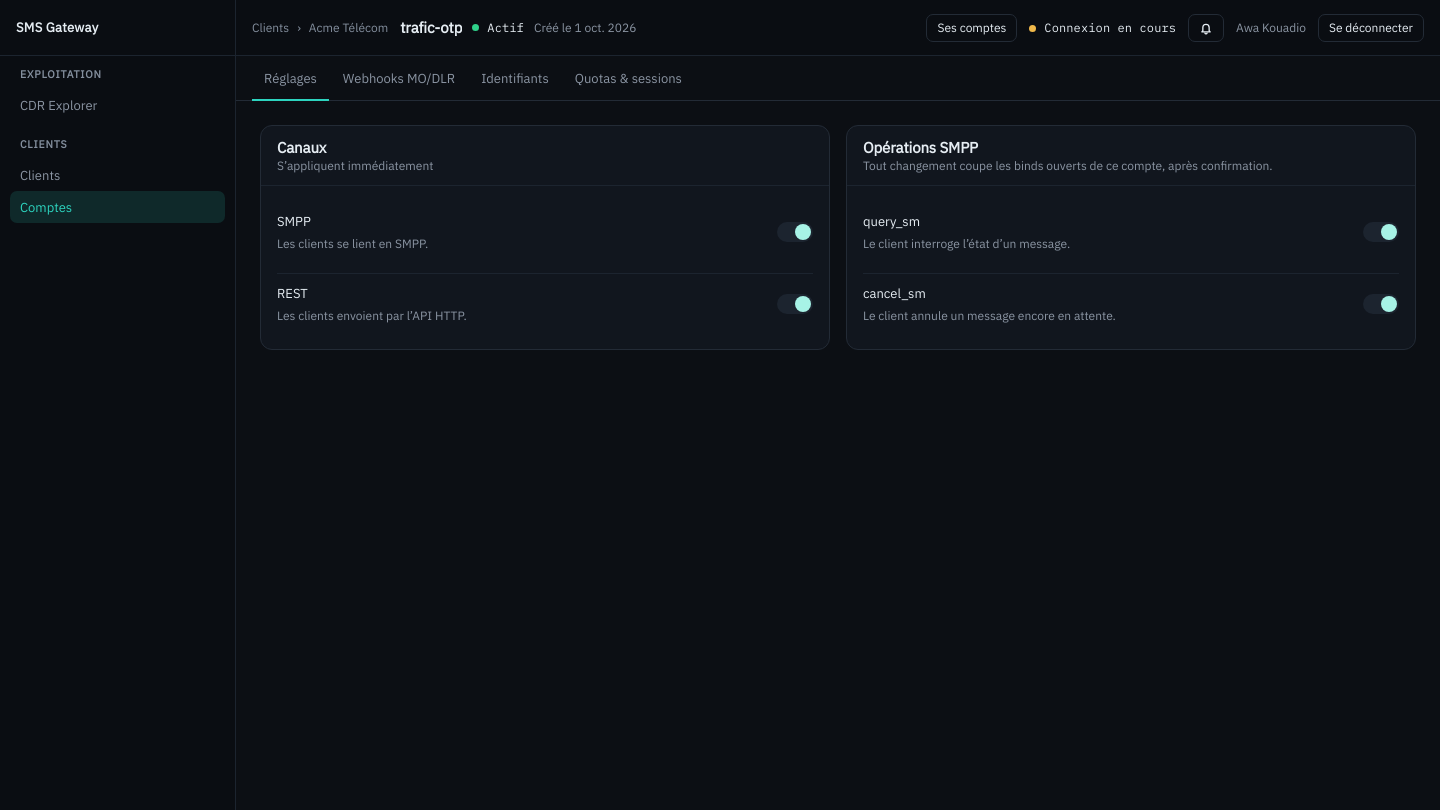
Test: the credentials of an SMPP account › shows exactly two cards, and offers to create the one the gateway does not hold
Click the tab "Identifiants" at (515, 78), box top-left (469, 56), bottom-right (561, 100)
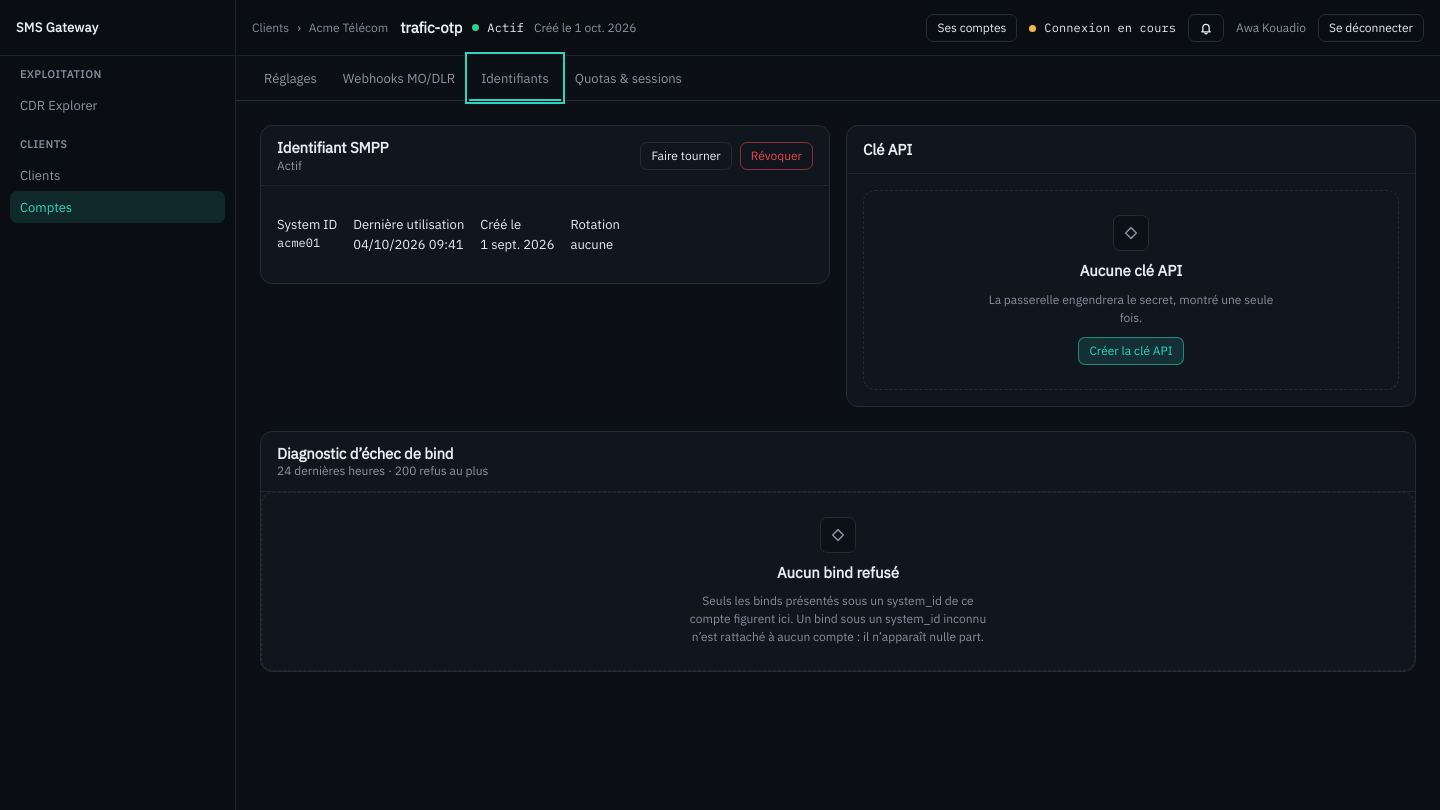
Expected: the text "acme01" is shown, top-left (277, 235), bottom-right (320, 250)
Expected: the element "Identifiant SMPP" is shown, top-left (260, 125), bottom-right (830, 284)
Expected: the text "Aucune clé API" is shown, top-left (1080, 261), bottom-right (1182, 280)
